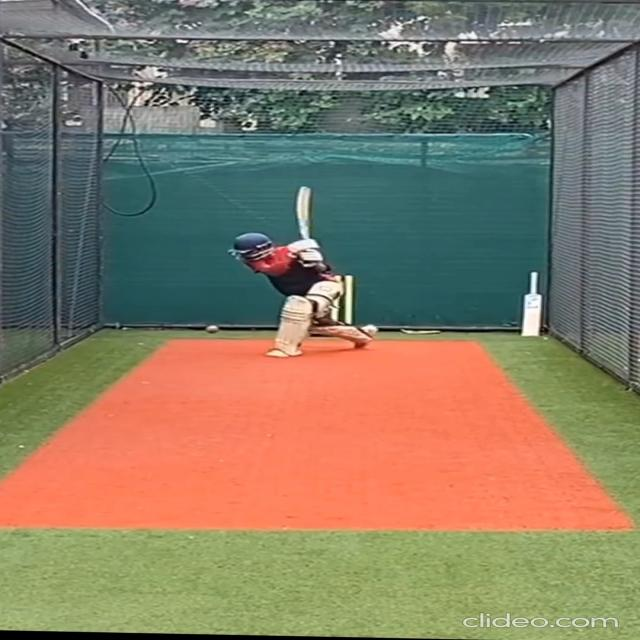ball: (202, 322, 226, 336)
stump: (320, 272, 358, 331)
